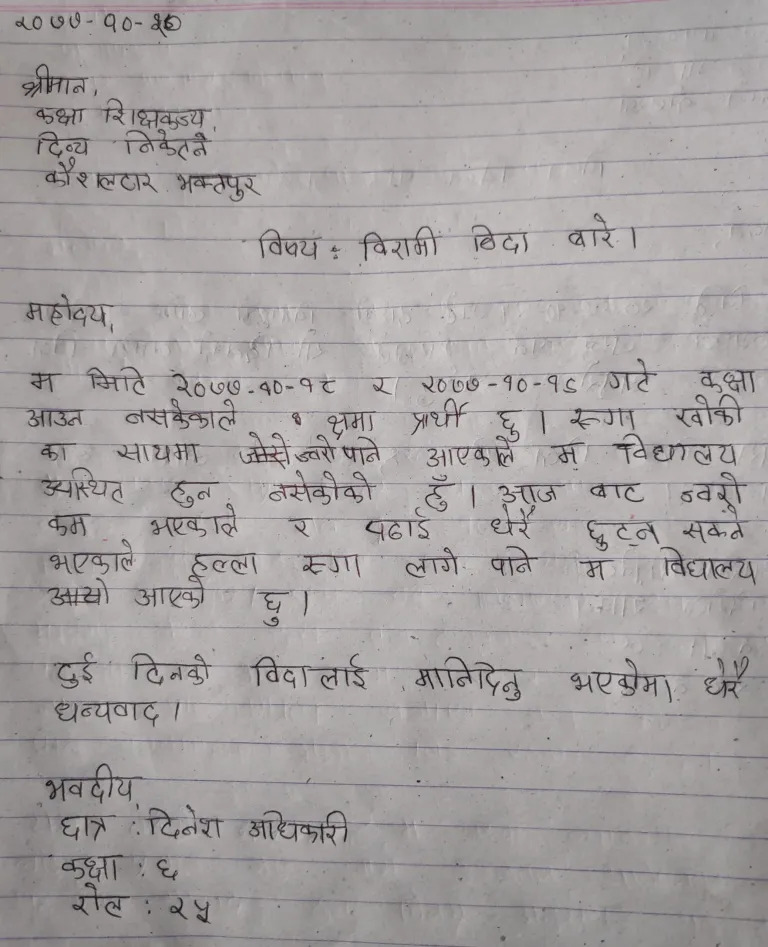text: (167, 364, 343, 402), (8, 6, 191, 41), (414, 653, 527, 702), (415, 367, 585, 398), (563, 657, 676, 702), (616, 430, 742, 470), (248, 802, 353, 850), (42, 157, 163, 198), (40, 759, 142, 807), (251, 651, 370, 691), (96, 95, 216, 130), (657, 546, 760, 586), (268, 469, 376, 507), (49, 694, 163, 729), (119, 398, 243, 430), (171, 165, 266, 205), (142, 801, 231, 843), (117, 126, 217, 163), (21, 291, 113, 331), (148, 503, 244, 540), (125, 649, 216, 688), (354, 224, 444, 263), (36, 468, 126, 507), (48, 537, 137, 576), (579, 512, 663, 552), (425, 433, 518, 468), (18, 58, 93, 99), (251, 225, 326, 265), (461, 215, 534, 255), (80, 356, 152, 396), (697, 652, 752, 703), (134, 576, 208, 613), (675, 470, 751, 506), (561, 211, 621, 256), (59, 846, 128, 885), (115, 437, 207, 466), (408, 398, 472, 438), (672, 393, 743, 428), (682, 507, 749, 544), (31, 122, 96, 160), (57, 808, 123, 845), (69, 882, 133, 920), (601, 354, 659, 394), (50, 648, 102, 692), (694, 360, 761, 394), (189, 546, 262, 577), (298, 548, 365, 581), (567, 403, 642, 432), (403, 546, 465, 581), (166, 891, 221, 929), (495, 477, 567, 506), (490, 503, 543, 540), (360, 516, 435, 542), (253, 585, 296, 629), (487, 542, 539, 578), (325, 404, 379, 438), (25, 403, 87, 432), (589, 476, 648, 505), (165, 478, 218, 509), (31, 101, 95, 126), (490, 403, 531, 442), (45, 508, 94, 539), (343, 430, 384, 467), (421, 473, 457, 512), (548, 437, 592, 468), (35, 435, 81, 464), (296, 435, 340, 465), (23, 365, 62, 398), (153, 852, 190, 885), (575, 554, 615, 584), (282, 512, 319, 541), (365, 371, 398, 400)
